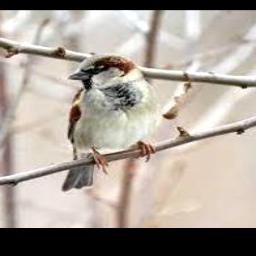Sparrow: (61, 54, 157, 191)
